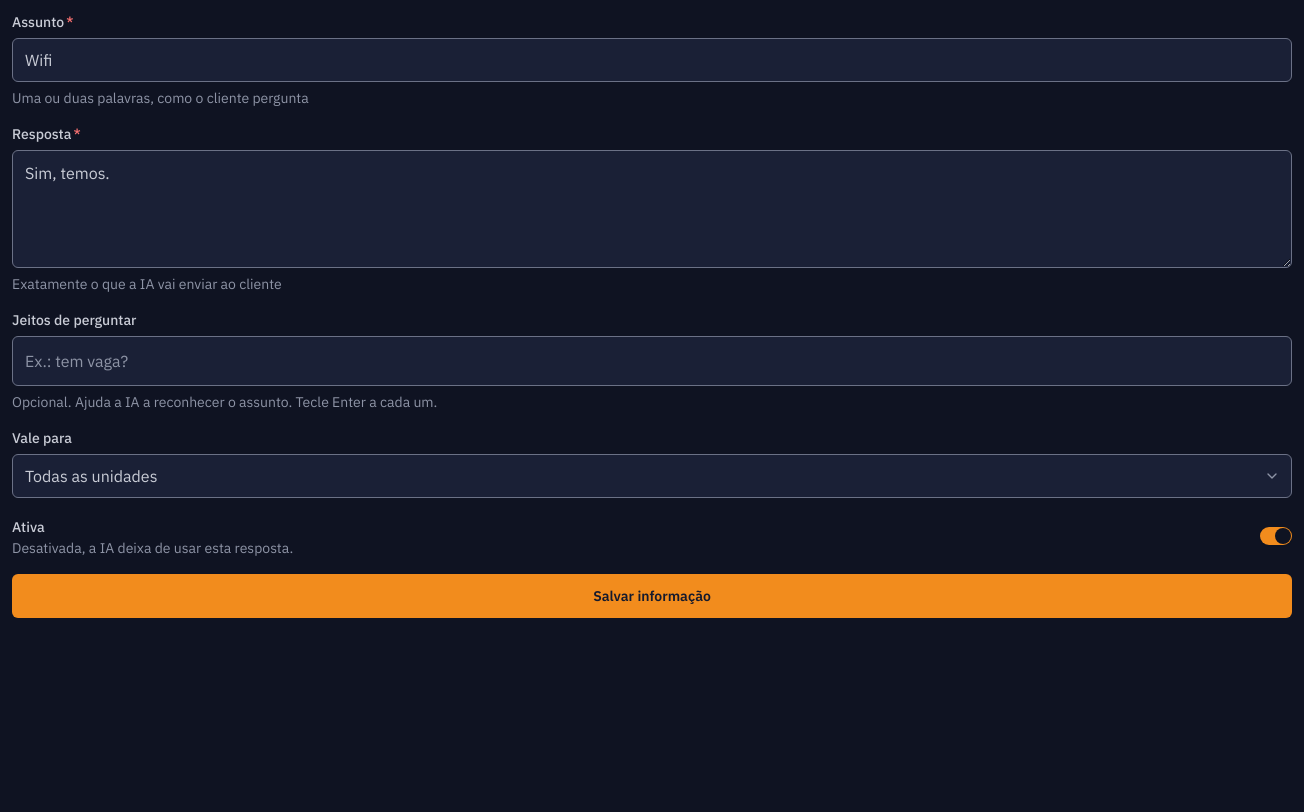
Test: FatoForm: duplo envio › ação que lança vira erro geral em português
Click the button "Salvar informação" at (652, 596), box [12, 574, 1292, 618]
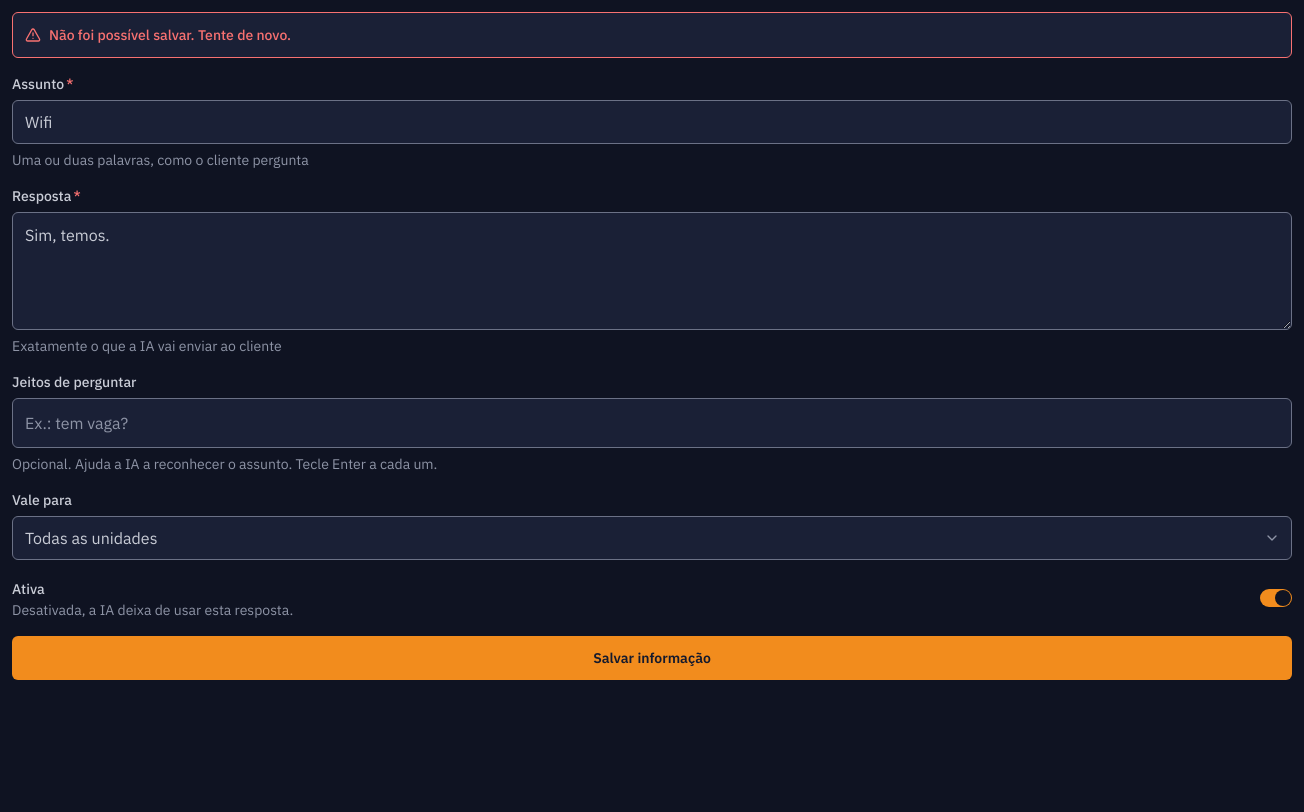
Result: the message reads "Não foi possível salvar. Tente de novo." at [49, 26, 291, 44]
